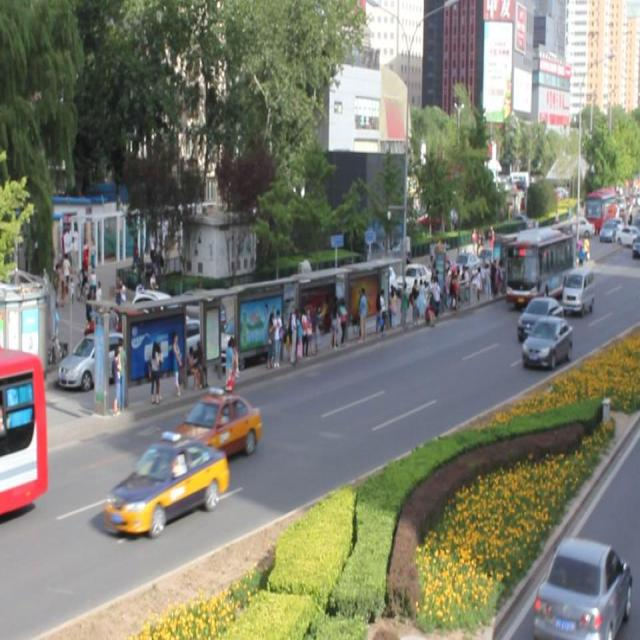car: (103, 436, 228, 535), (164, 389, 262, 462), (520, 313, 571, 367), (516, 294, 565, 340)
truck: (561, 264, 593, 310)
van: (1, 344, 48, 514), (506, 226, 573, 300)
